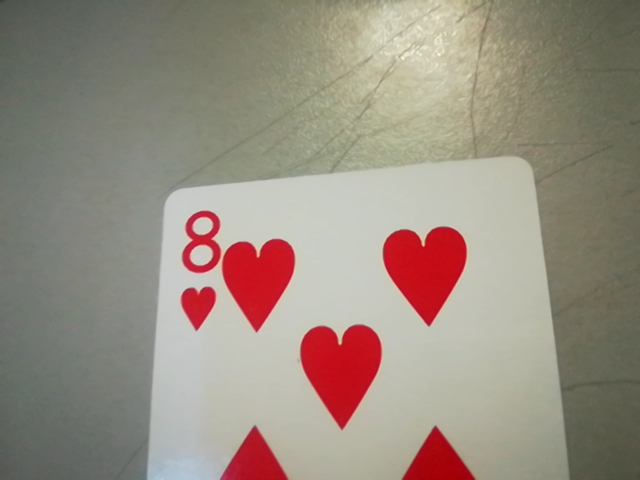hx 8: (166, 201, 229, 338)
